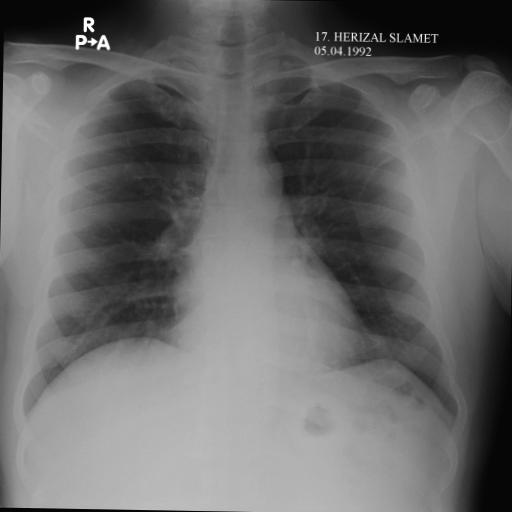normal: (9, 36, 478, 448)
